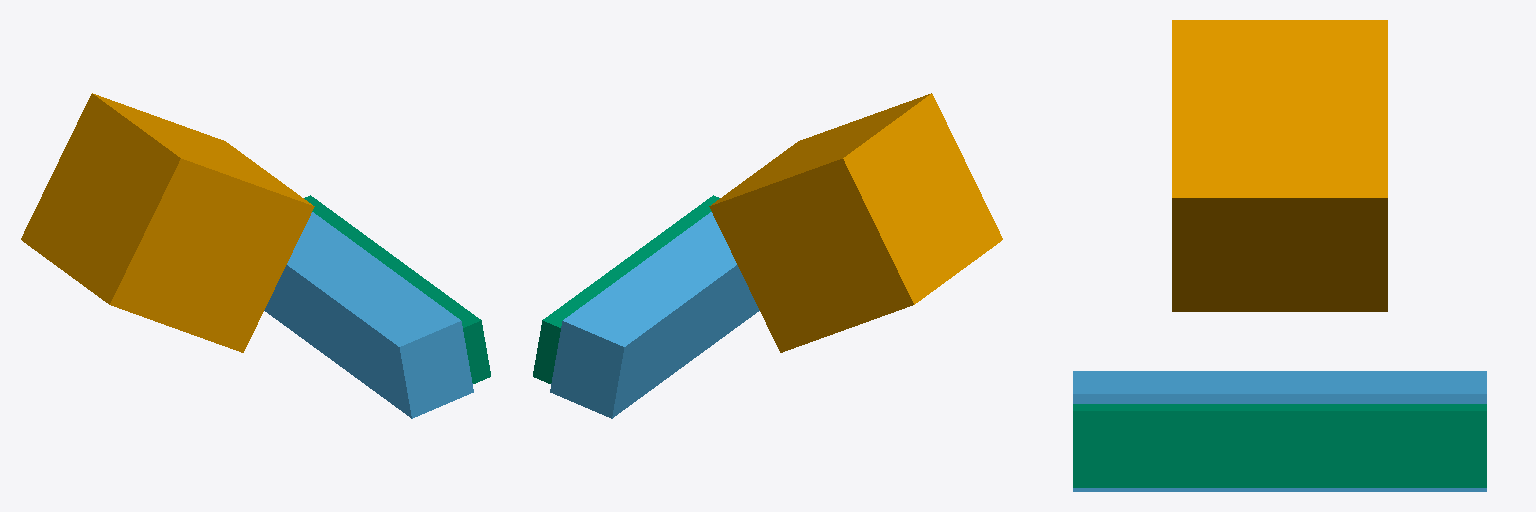
robot.urdf — zed_mid360:
<?xml version="1.0" encoding="UTF-8"?>
<!--
  zed_mid360: ZED-M stereo camera + Livox Mid-360 on one rigid mount.

  Frame convention: x forward, y left, z up (ROS). base_link is the mount plate.
  - The ZED faces mostly forward, pitched UP 10 deg  (rpy pitch = -0.17453293).
  - The Mid-360 sits behind it, pitched DOWN 30 deg  (rpy pitch = +0.52359878).
  All offsets are placeholder-but-sane values meant for hand fine-tuning; the
  bounding boxes are the real ZED-M / Mid-360 datasheet dimensions.

  ZED-M body: 124.5 x 30.5 x 26.5 mm (width x height x depth), stereo baseline 63 mm.
  Mid-360 body: 65 x 65 x 60 mm; point-cloud origin ~47 mm above the base, i.e.
  17 mm above the box center.
-->
<robot name="zed_mid360">

  <link name="base_link"/>

  <!-- ═══ ZED-M (front, pitched up 10 deg) ═══ -->

  <joint name="base_to_zed" type="fixed">
    <parent link="base_link"/>
    <child link="zed_link"/>
    <origin xyz="0.06 0 0.02" rpy="0 -0.17453293 0"/>
  </joint>

  <!-- zed_link = center of the ZED main body box -->
  <link name="zed_link">
    <visual>
      <origin xyz="0 0 0" rpy="0 0 0"/>
      <geometry>
        <box size="0.0265 0.1245 0.0305"/>
      </geometry>
    </visual>
    <collision>
      <origin xyz="0 0 0" rpy="0 0 0"/>
      <geometry>
        <box size="0.0265 0.1245 0.0305"/>
      </geometry>
    </collision>
  </link>

  <!-- Thin box spanning both lens apertures, flush with the body's front face -->
  <joint name="zed_to_lenses" type="fixed">
    <parent link="zed_link"/>
    <child link="zed_lenses_link"/>
    <origin xyz="0.01725 0 0" rpy="0 0 0"/>
  </joint>

  <link name="zed_lenses_link">
    <visual>
      <origin xyz="0 0 0" rpy="0 0 0"/>
      <geometry>
        <box size="0.008 0.1245 0.024"/>
      </geometry>
    </visual>
    <collision>
      <origin xyz="0 0 0" rpy="0 0 0"/>
      <geometry>
        <box size="0.008 0.1245 0.024"/>
      </geometry>
    </collision>
  </link>

  <!-- Eye frames: 63 mm baseline, symmetric about the body center -->
  <joint name="zed_to_left_eye" type="fixed">
    <parent link="zed_link"/>
    <child link="zed_left_frame"/>
    <origin xyz="0 0.0315 0" rpy="0 0 0"/>
  </joint>
  <link name="zed_left_frame"/>

  <joint name="zed_left_to_optical" type="fixed">
    <parent link="zed_left_frame"/>
    <child link="zed_left_optical_frame"/>
    <origin xyz="0 0 0" rpy="-1.5707963 0 -1.5707963"/>
  </joint>
  <link name="zed_left_optical_frame"/>

  <joint name="zed_to_right_eye" type="fixed">
    <parent link="zed_link"/>
    <child link="zed_right_frame"/>
    <origin xyz="0 -0.0315 0" rpy="0 0 0"/>
  </joint>
  <link name="zed_right_frame"/>

  <joint name="zed_right_to_optical" type="fixed">
    <parent link="zed_right_frame"/>
    <child link="zed_right_optical_frame"/>
    <origin xyz="0 0 0" rpy="-1.5707963 0 -1.5707963"/>
  </joint>
  <link name="zed_right_optical_frame"/>

  <!-- ZED-M onboard IMU. Placeholder extrinsic ≈ left eye (datasheet); the
       factory cam-IMU transform is SDK-only. Refine by calibration if used
       for VI-SLAM — the frame is here so recorded zed_imu resolves in tf. -->
  <joint name="zed_to_imu" type="fixed">
    <parent link="zed_link"/>
    <child link="zed_imu_link"/>
    <origin xyz="0 0.0315 0" rpy="0 0 0"/>
  </joint>
  <link name="zed_imu_link"/>

  <!-- ═══ Mid-360 (behind and above the ZED, pitched down 30 deg) ═══ -->

  <joint name="base_to_mid360" type="fixed">
    <parent link="base_link"/>
    <child link="mid360_link"/>
    <origin xyz="-0.017268 0 0.071831" rpy="0 0.52359878 0"/>
  </joint>

  <!-- mid360_link = center of the Mid-360 body box -->
  <link name="mid360_link">
    <visual>
      <origin xyz="0 0 0" rpy="0 0 0"/>
      <geometry>
        <box size="0.065 0.065 0.060"/>
      </geometry>
    </visual>
    <collision>
      <origin xyz="0 0 0" rpy="0 0 0"/>
      <geometry>
        <box size="0.065 0.065 0.060"/>
      </geometry>
    </collision>
  </link>

  <!-- Point-cloud origin O: on the central axis, 17 mm above the box center.
       Point-LIO's odometry attaches here (world -> lidar_link) and its clouds
       are stamped with this frame, tying the moving world edge into the rig. -->
  <joint name="mid360_to_lidar" type="fixed">
    <parent link="mid360_link"/>
    <child link="lidar_link"/>
    <origin xyz="0 0 0.017" rpy="0 0 0"/>
  </joint>
  <link name="lidar_link"/>

</robot>

--- Render facts (derived) ---
The picture shows the robot from 3 angles, left to right: view 1: azimuth 30°, elevation 25°; view 2: azimuth 150°, elevation 25°; view 3: azimuth 270°, elevation 25°; orthographic projection.
Model zed_mid360 with 10 links and 9 joints (9 fixed), rooted at base_link, posed every joint at zero.
Links seen in each view (by area): view 1: mid360_link, zed_link, zed_lenses_link; view 2: mid360_link, zed_link, zed_lenses_link; view 3: mid360_link, zed_lenses_link, zed_link.
Boxes of the visible links, x1,y1,x2,y2 form: mid360_link: (21, 93, 314, 352); zed_link: (264, 212, 473, 418); zed_lenses_link: (304, 195, 490, 383); mid360_link: (709, 93, 1002, 352); zed_link: (550, 212, 759, 418); zed_lenses_link: (533, 195, 719, 383); mid360_link: (1172, 20, 1387, 311); zed_lenses_link: (1073, 404, 1486, 487); zed_link: (1073, 371, 1486, 491).
Size in the robot's own frame: 0.1434 by 0.1245 by 0.1114 metres.
Geometry: primitives only (box / cylinder / sphere), no mesh files.
